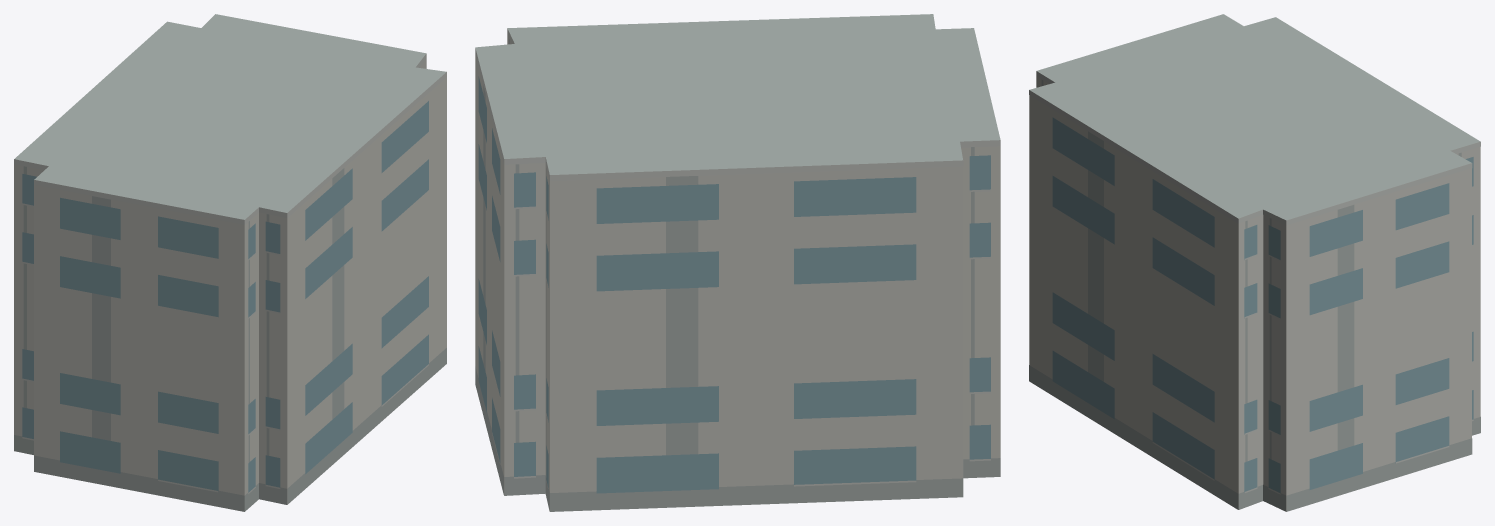
The model's file is survey-upis-32805768.glb.
3 renders of one model, left to right at view 1: azimuth 30°, elevation 25°; view 2: azimuth 150°, elevation 25°; view 3: azimuth 270°, elevation 25°, orthographic. The views are drawn at different scales.
Parts seen in each view (by area): view 1: survey-upis-32805768.tmp; view 2: survey-upis-32805768.tmp; view 3: survey-upis-32805768.tmp.
Boxes of the visible parts, box(x1,y1,x2,y2) form: survey-upis-32805768.tmp: box(14, 14, 446, 511); survey-upis-32805768.tmp: box(475, 14, 1000, 511); survey-upis-32805768.tmp: box(1029, 14, 1480, 511).
Size of the model in its own units: 20.9 by 13.75 by 19.32.
